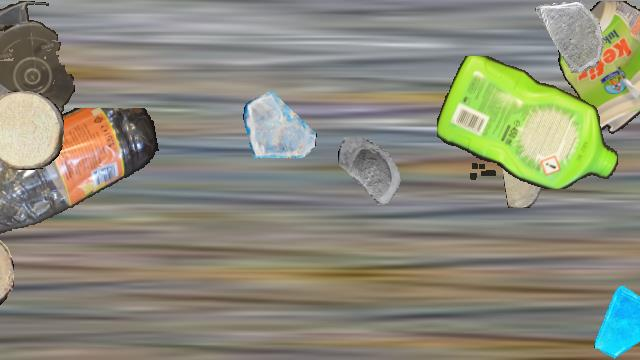glass: (337, 137, 413, 213), (243, 88, 317, 162), (535, 1, 607, 73), (592, 285, 640, 359), (0, 89, 13, 173)
plastic: (437, 56, 619, 188), (0, 108, 161, 248), (557, 1, 640, 139), (0, 1, 76, 133)
wood: (0, 91, 63, 169), (503, 134, 541, 208), (0, 232, 14, 318)
